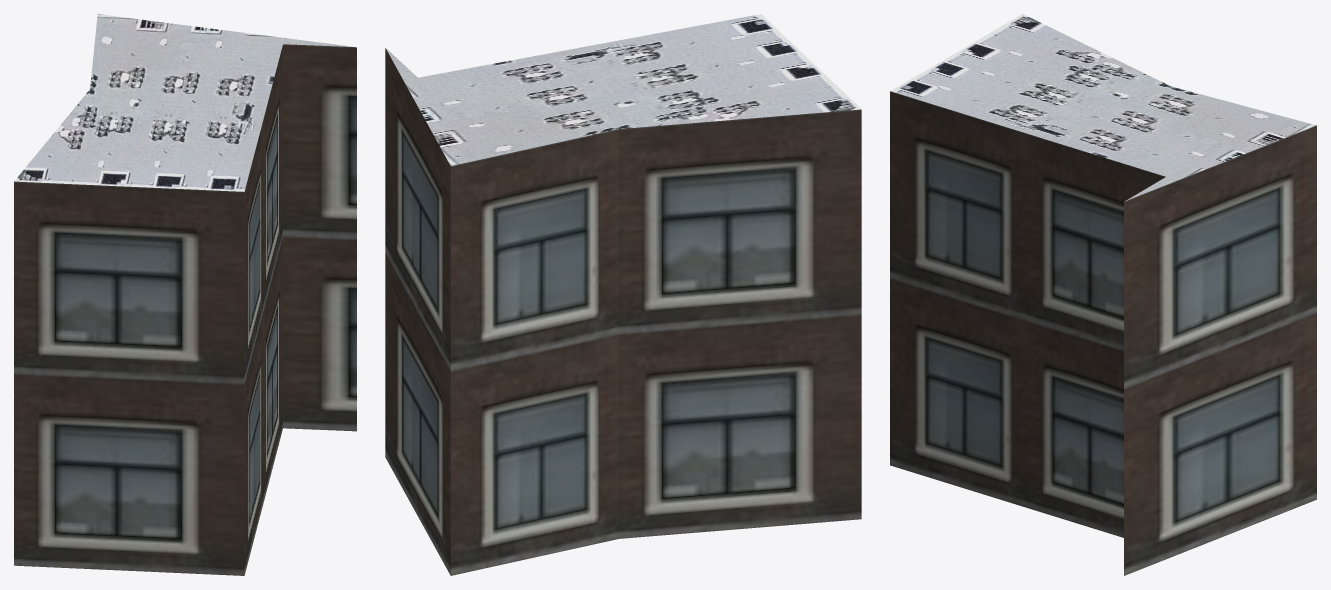
The model's file is ResTex__5008.fbx.
3 views of the same model, side by side, from view 1: azimuth 30°, elevation 25°; view 2: azimuth 150°, elevation 25°; view 3: azimuth 270°, elevation 25° (orthographic). The views are drawn at different scales.
Parts seen in each view (by area): view 1: CityEngineMaterial_16_m, CityEngineMaterial_15_m; view 2: CityEngineMaterial_16_m, CityEngineMaterial_15_m; view 3: CityEngineMaterial_16_m, CityEngineMaterial_15_m.
Boxes of the visible parts, bbox=[...] form: CityEngineMaterial_16_m: bbox=[14, 44, 356, 575]; CityEngineMaterial_15_m: bbox=[14, 14, 355, 191]; CityEngineMaterial_16_m: bbox=[385, 48, 861, 575]; CityEngineMaterial_15_m: bbox=[386, 14, 861, 165]; CityEngineMaterial_16_m: bbox=[890, 91, 1316, 575]; CityEngineMaterial_15_m: bbox=[890, 14, 1316, 201].
Bounding box in the file's own units: 6.45 × 6 × 6.2.
Materials: 2 (2 with a texture image).
